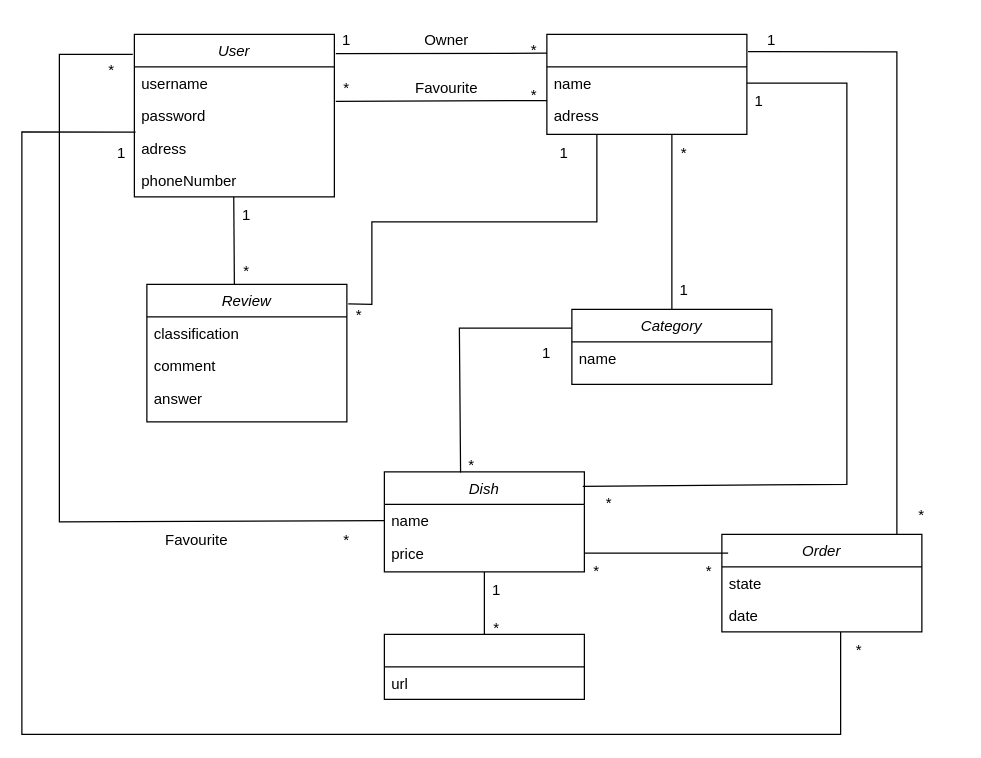
The diagram is 981 pixels wide and 758 high, and some of its shapes have lost their labels. The shapes that lost their labels are listed below. From the top down, each one's box as (x1, y1, x2, y2) in pixels, then its label:
(546, 33, 747, 134): Restaurant
(383, 633, 584, 699): Photo
